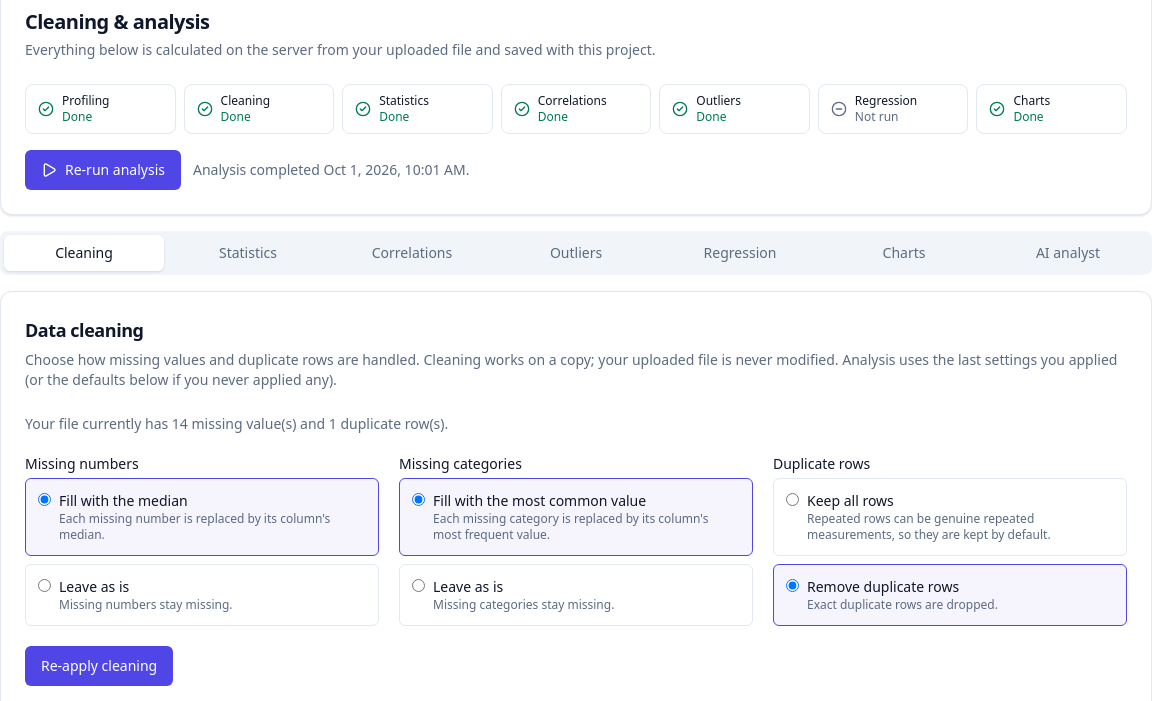
AnalysisWorkspace — regression › only offers numeric columns, blocks incomplete input, and posts the chosen model
The image size is (1152, 701).
Click the tab "Regression" at (740, 253), box [660,235,820,271]
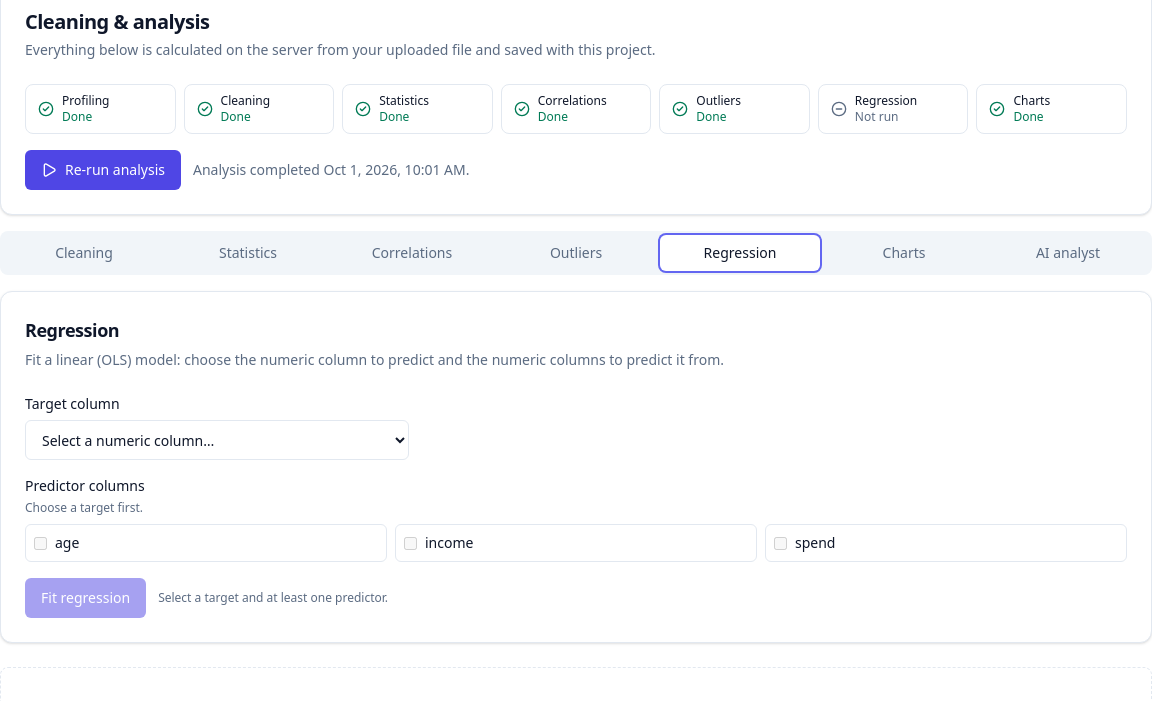
Check: the button "Fit regression" is disabled, box [25,578,146,618]
Select "spend" in the dropdown labelled "Target column" at (217, 440), box [25,420,409,460]
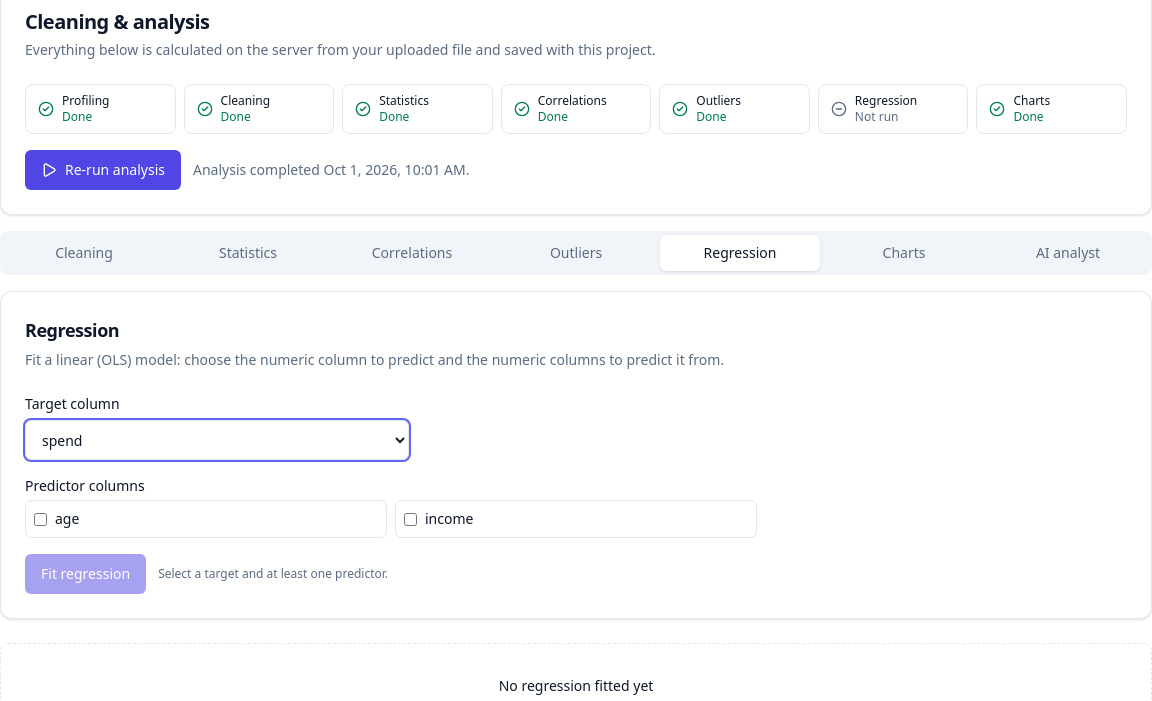
Check: the button "Fit regression" is disabled, box [25,554,146,594]
Click the checkbox labelled "age" at (40, 519), box [34,512,47,526]
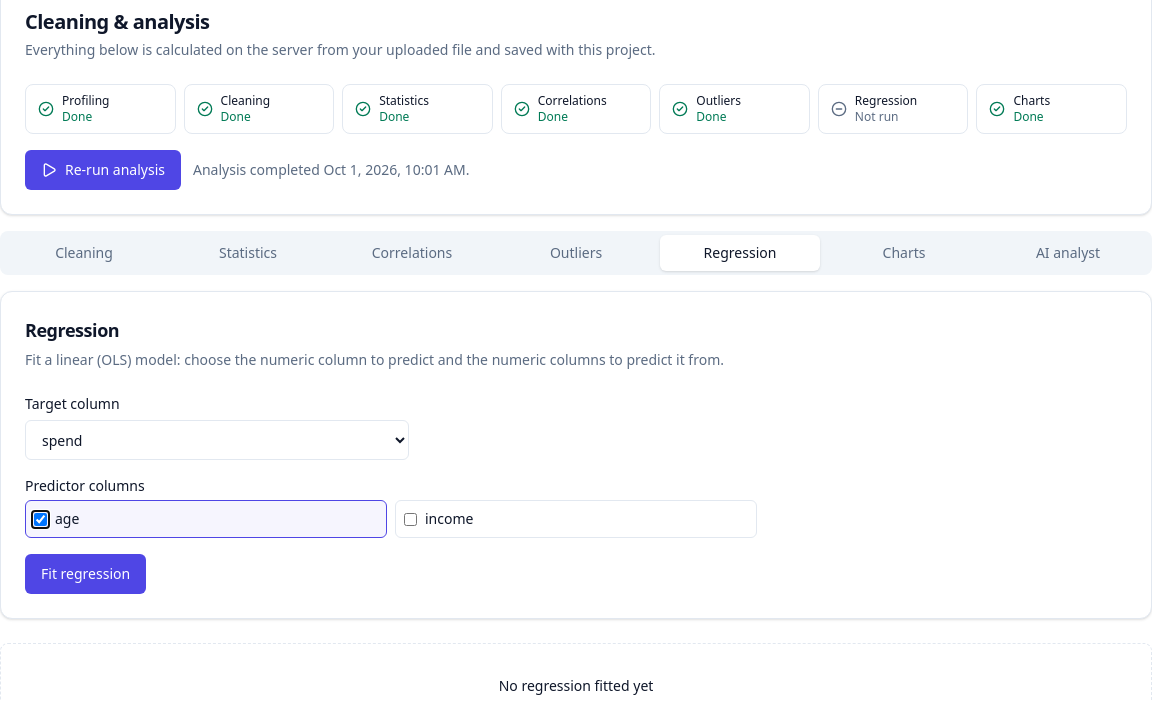
Click the checkbox labelled "income" at (410, 519), box [404,512,417,526]
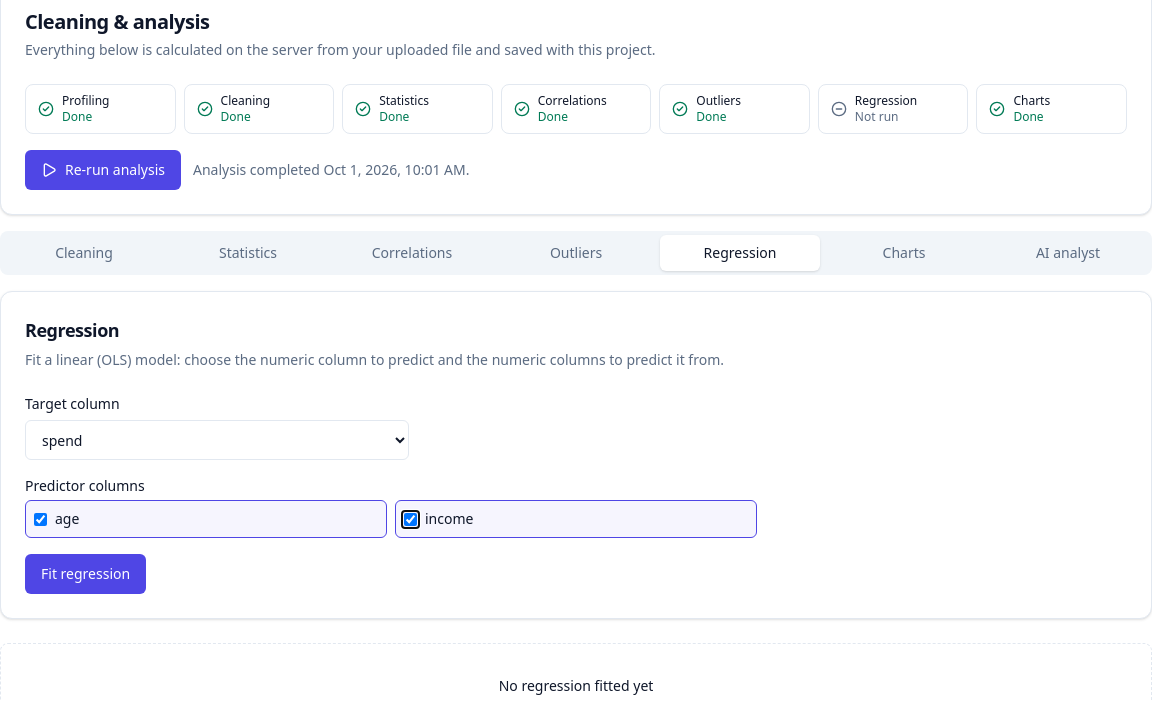
Check: the button "Fit regression" is enabled
Click the button "Fit regression" at (86, 574), box [25,554,146,594]
(page scrolled)
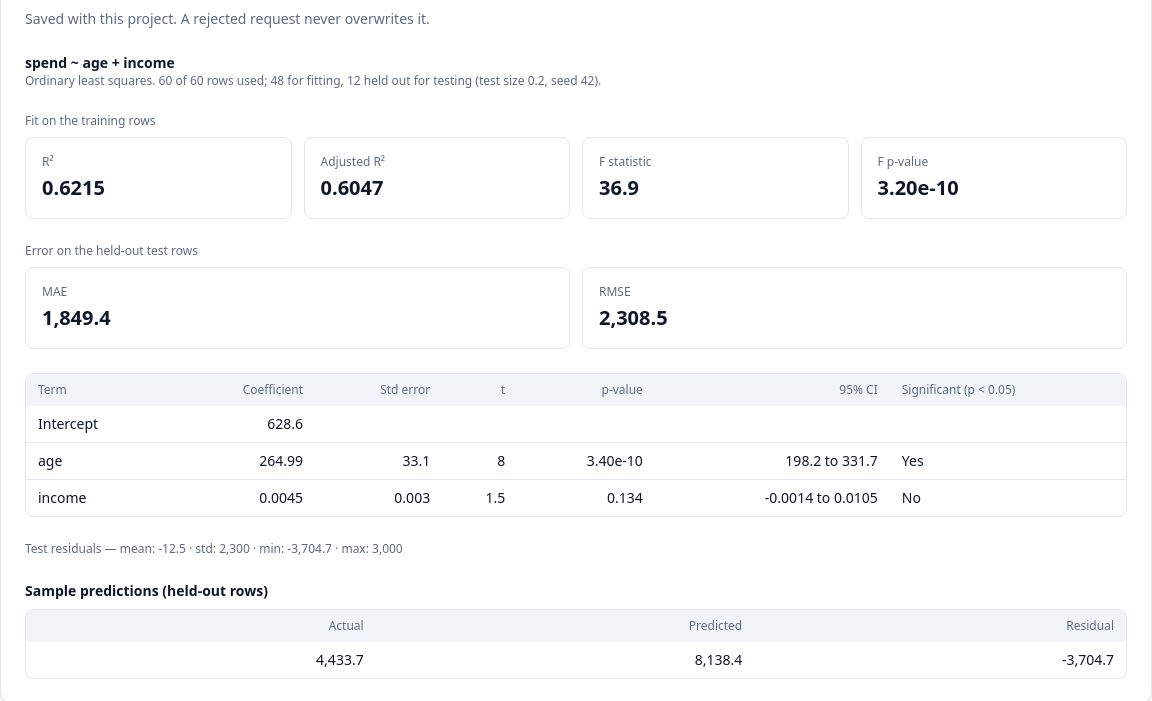
Check: the element with test id "regression-result" shows "spend ~ age + income"
Check: the text "0.6215" is shown, box [42,174,105,201]
Check: the column heading "Intercept" is shown, box [26,406,170,442]
